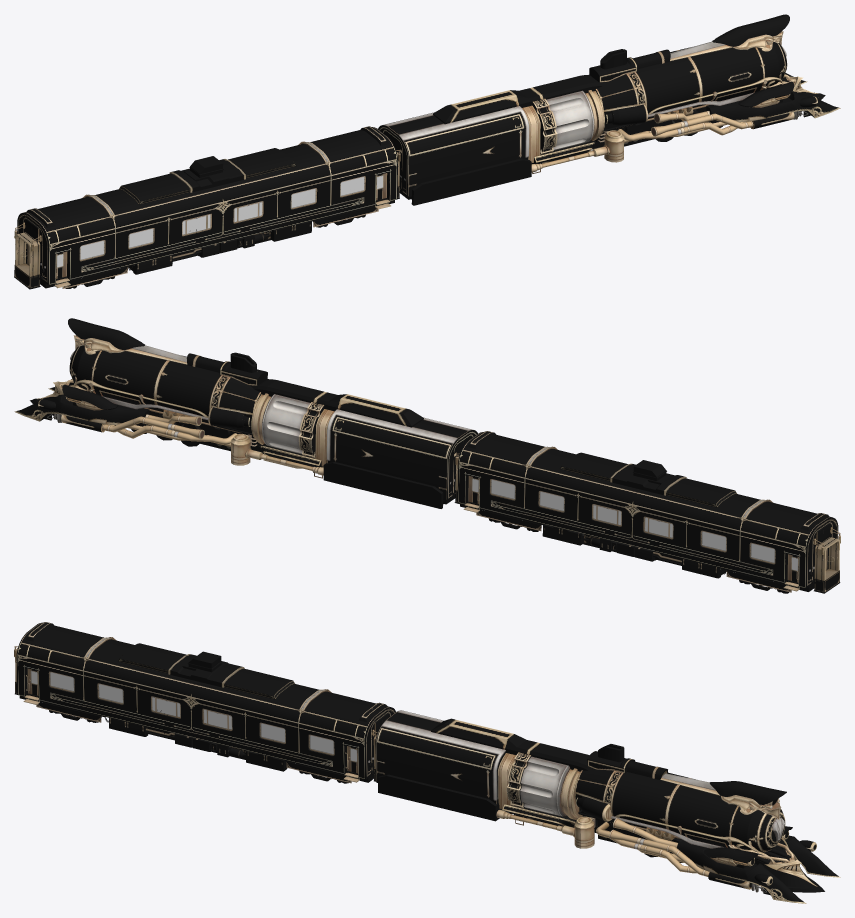
File: train2.glb
3 renders of one model, top to bottom at view 1: azimuth 30°, elevation 25°; view 2: azimuth 150°, elevation 25°; view 3: azimuth 330°, elevation 25°, orthographic.
Parts seen in each view (by area): view 1: mesh_45_70.nr; view 2: mesh_45_70.nr; view 3: mesh_45_70.nr.
Part boxes in pixels (x1,y1,x2,y2): mesh_45_70.nr: [14, 14, 840, 289]; mesh_45_70.nr: [14, 318, 840, 593]; mesh_45_70.nr: [14, 622, 840, 903].
Bounding box in the file's own units: 5.14 × 0.5977 × 0.5581.
6 materials, 6 textured.
